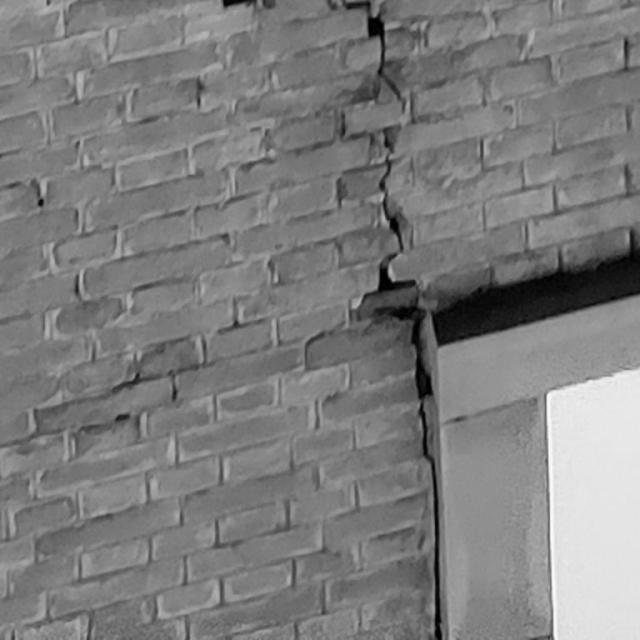crack: (342, 1, 442, 640)
